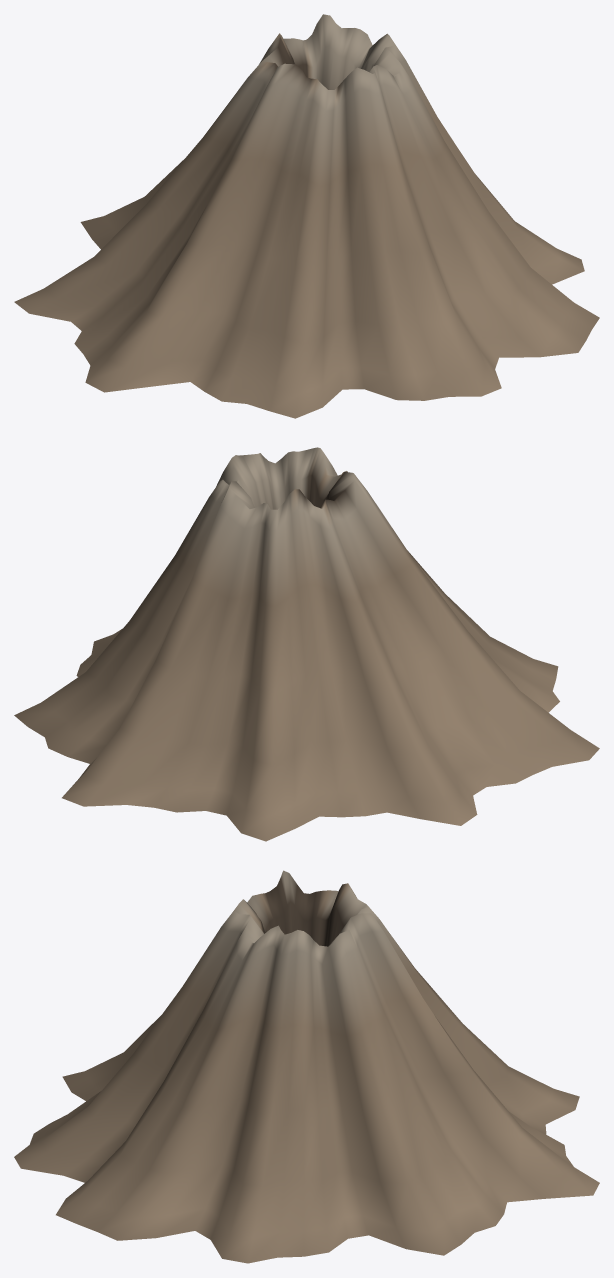
Rendered from volcano-a.glb.
3 renders of one model, top to bottom at view 1: azimuth 30°, elevation 25°; view 2: azimuth 150°, elevation 25°; view 3: azimuth 270°, elevation 25°, orthographic. The views are drawn at different scales.
Visible parts, largest first — view 1: volcano-a; view 2: volcano-a; view 3: volcano-a.
Boxes of the visible parts, bbox=[...] form: volcano-a: bbox=[14, 14, 599, 418]; volcano-a: bbox=[14, 447, 599, 841]; volcano-a: bbox=[14, 870, 599, 1263].
Bounding box in the file's own units: 2.29 × 1.11 × 2.3.
